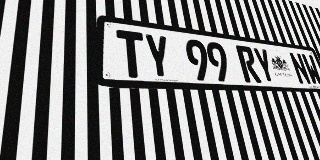9: (184, 38, 213, 81), (205, 41, 232, 82)
N: (288, 52, 312, 85)
R: (235, 45, 262, 83)
T: (116, 29, 147, 78)
W: (301, 53, 320, 85)
Y: (143, 33, 173, 79), (252, 47, 277, 83)
